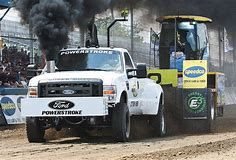smoke: (12, 1, 110, 61), (113, 1, 236, 44)
